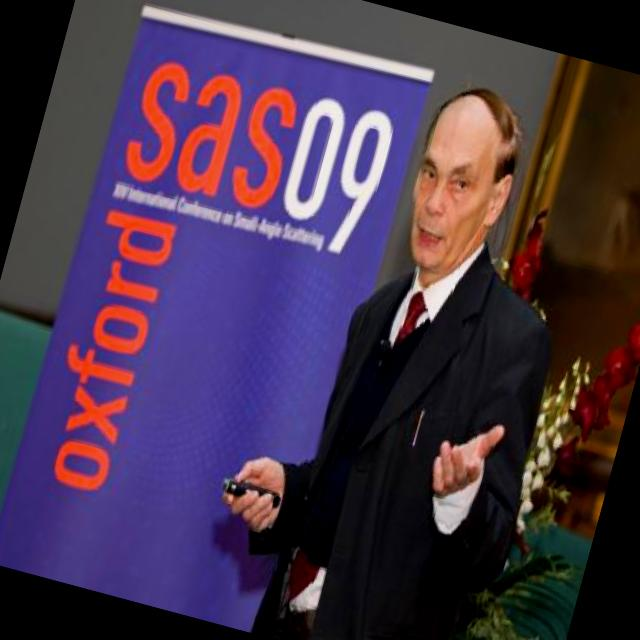Person: (223, 59, 610, 640)
